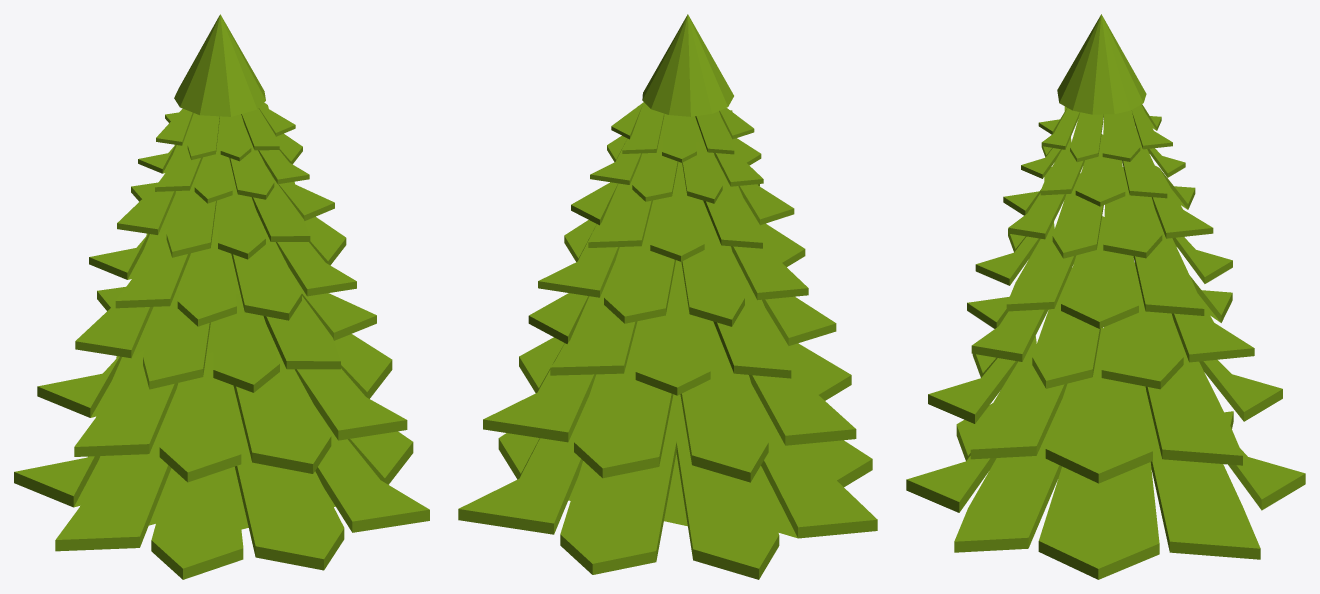
The model's file is tree-summer-leaves-032.glb.
3 views of the same model, side by side, from view 1: azimuth 30°, elevation 25°; view 2: azimuth 150°, elevation 25°; view 3: azimuth 270°, elevation 25° (orthographic). The views are drawn at different scales.
Visible parts, largest first — view 1: Plane.011_263; view 2: Plane.011_263; view 3: Plane.011_263.
Part boxes in pixels (<box>): Plane.011_263: <box>14,14,429,579</box>; Plane.011_263: <box>458,14,877,579</box>; Plane.011_263: <box>906,14,1305,579</box>.
Size of the model in its own units: 1.47 by 1.84 by 1.4.
